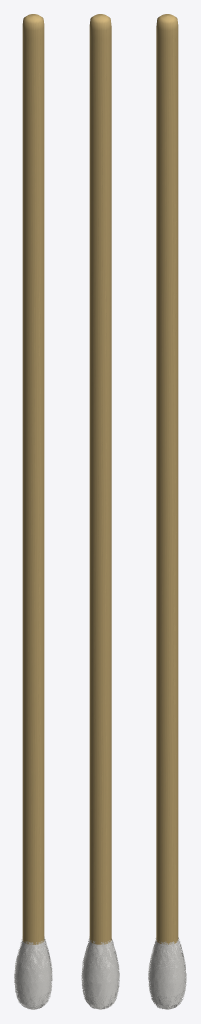
File: pegwood.glb
3 views of the same model, side by side, from view 1: azimuth 30°, elevation 25°; view 2: azimuth 150°, elevation 25°; view 3: azimuth 330°, elevation 25° (orthographic).
Parts seen in each view (by area): view 1: Pegwood, Cotone; view 2: Pegwood, Cotone; view 3: Pegwood, Cotone.
Boxes of the visible parts, x1=… form: Pegwood: x1=22, y1=14, x2=44, y2=944; Cotone: x1=14, y1=937, x2=52, y2=1009; Pegwood: x1=89, y1=14, x2=111, y2=944; Cotone: x1=81, y1=936, x2=119, y2=1009; Pegwood: x1=156, y1=14, x2=178, y2=944; Cotone: x1=148, y1=937, x2=186, y2=1009.
Bounding box in the file's own units: 0.0053 × 0.15 × 0.0053.
Materials: 3 (3 with a texture image).
